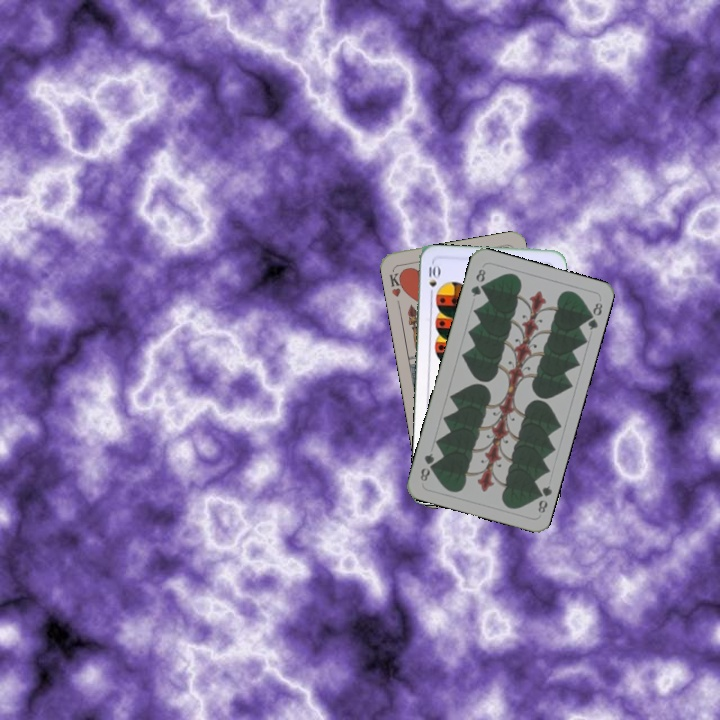G8: (531, 481, 554, 516), (467, 265, 488, 299)
HK: (385, 268, 407, 299)
S10: (425, 259, 441, 300)
